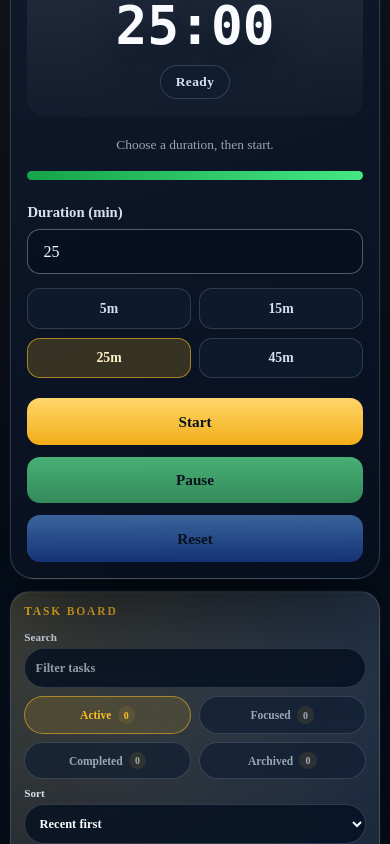
DevBreak Timer › starts the countdown without real-time waits
(page scrolled)
Click the button with test id "start-button" at [195, 421], box [27,398,362,444]
(page scrolled)
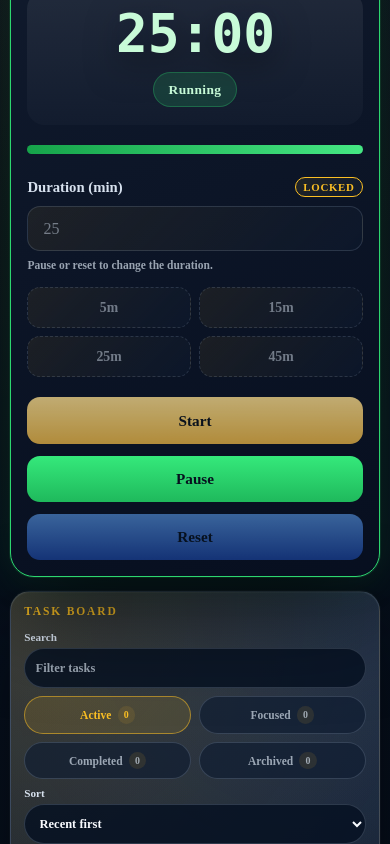
Wait "1000"
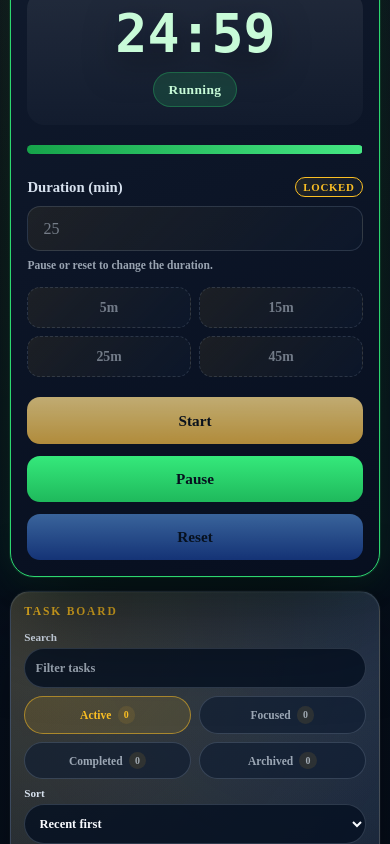
Check: the text with test id "timer-status" reads "Running", box [153,72,237,107]
Check: the text with test id "timer-display" reads "24:59", box [115,9,275,60]
